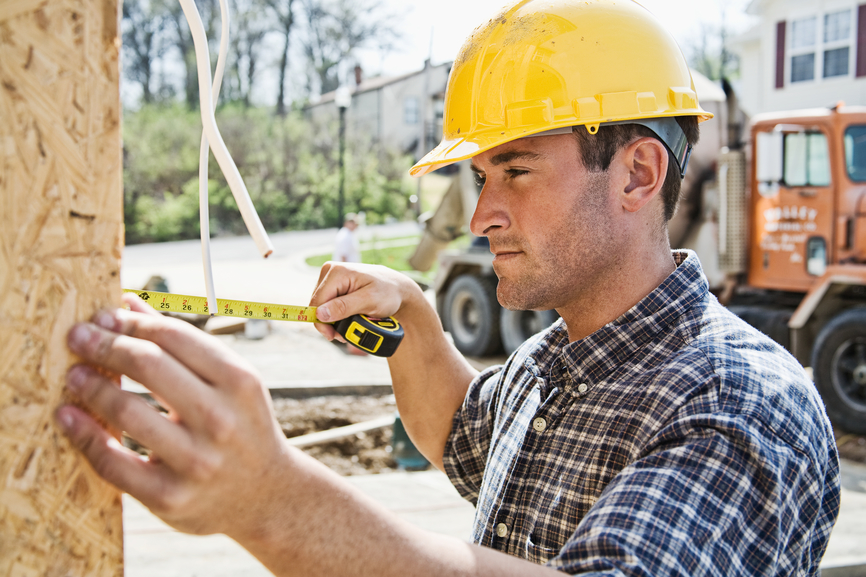hard hat: (407, 1, 717, 176)
